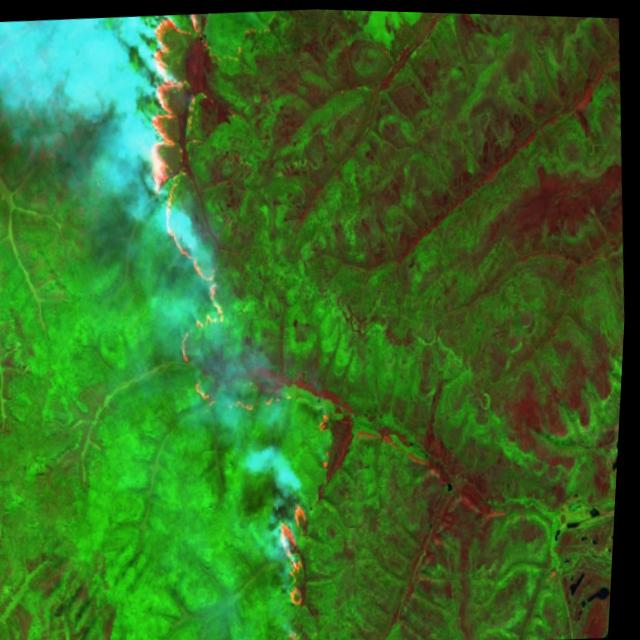fire: (119, 4, 316, 426), (269, 477, 334, 618)
